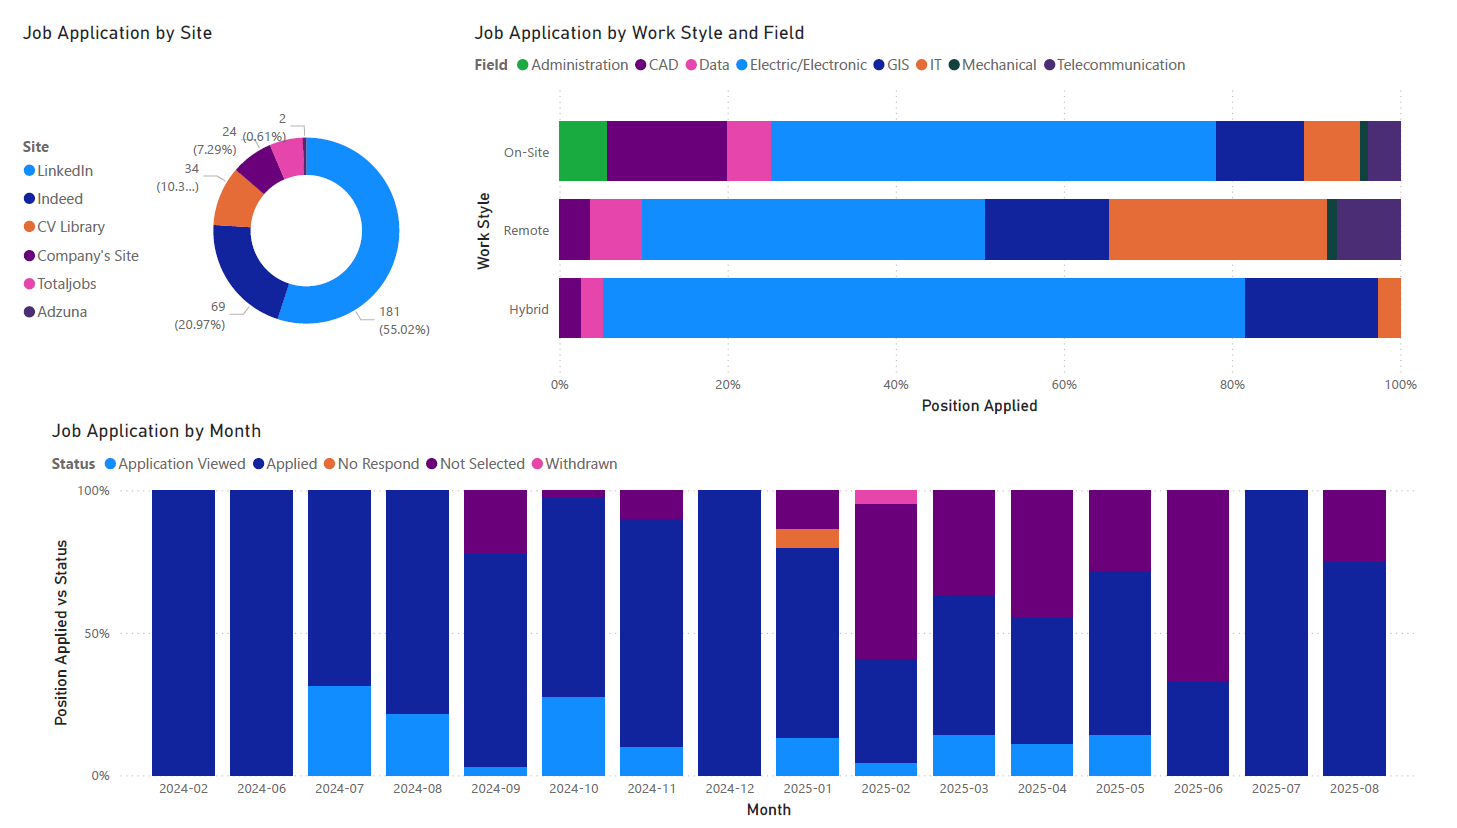

Layout of this report page (visuals, bound fields, positions):
{"tool":"powerbi","page":{"name":"Page 1","canvas":[1280,720],"ordinal":0},"visuals":[{"type":"hundredPercentStackedColumnChart","title":"Job Application by Month","fields":{"Category":["Applications.YearMonth"],"Y":["CountNonNull(Applications.Position Applied)"],"Series":["Applications.Status"]},"box":[25.7,359.5,1225.3,360.7],"z":0},{"type":"donutChart","title":"Job Application by Site","fields":{"Category":["Applications.Site"],"Y":["CountNonNull(Applications.Position Applied)"]},"box":[0,5.5,402.1,354],"z":1000},{"type":"hundredPercentStackedBarChart","title":"Job Application by Work Style and Field","fields":{"Category":["Applications.Work Style"],"Y":["CountNonNull(Applications.Position Applied)"],"Series":["Applications.Field"]},"box":[402.1,5.5,849.4,354],"z":2000}]}

Visuals, with their boxes in screenshot pixels (x1, y1, x2, y2), scaled from the page's 1280x720 canvas onto the 1457x828 screenshot:
"Job Application by Month" hundredPercentStackedColumnChart: Rect(29, 413, 1424, 827)
"Job Application by Site" donutChart: Rect(0, 6, 458, 413)
"Job Application by Work Style and Field" hundredPercentStackedBarChart: Rect(458, 6, 1425, 413)
